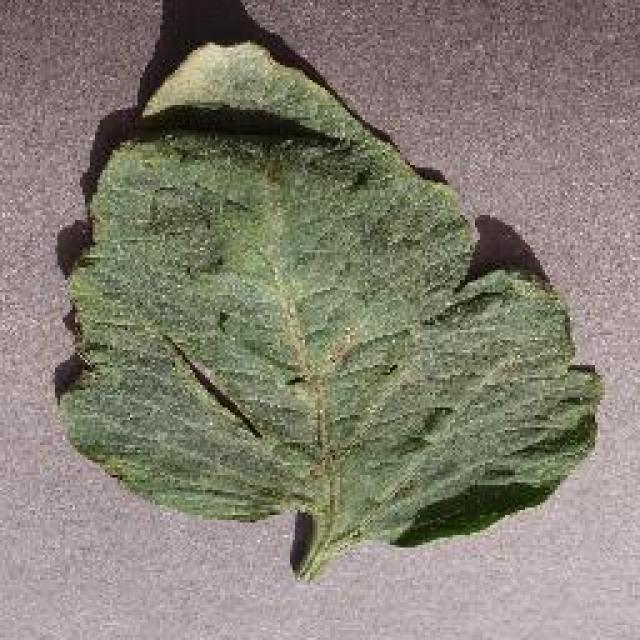Tomato Septoria spot leaf: (54, 30, 598, 548)
